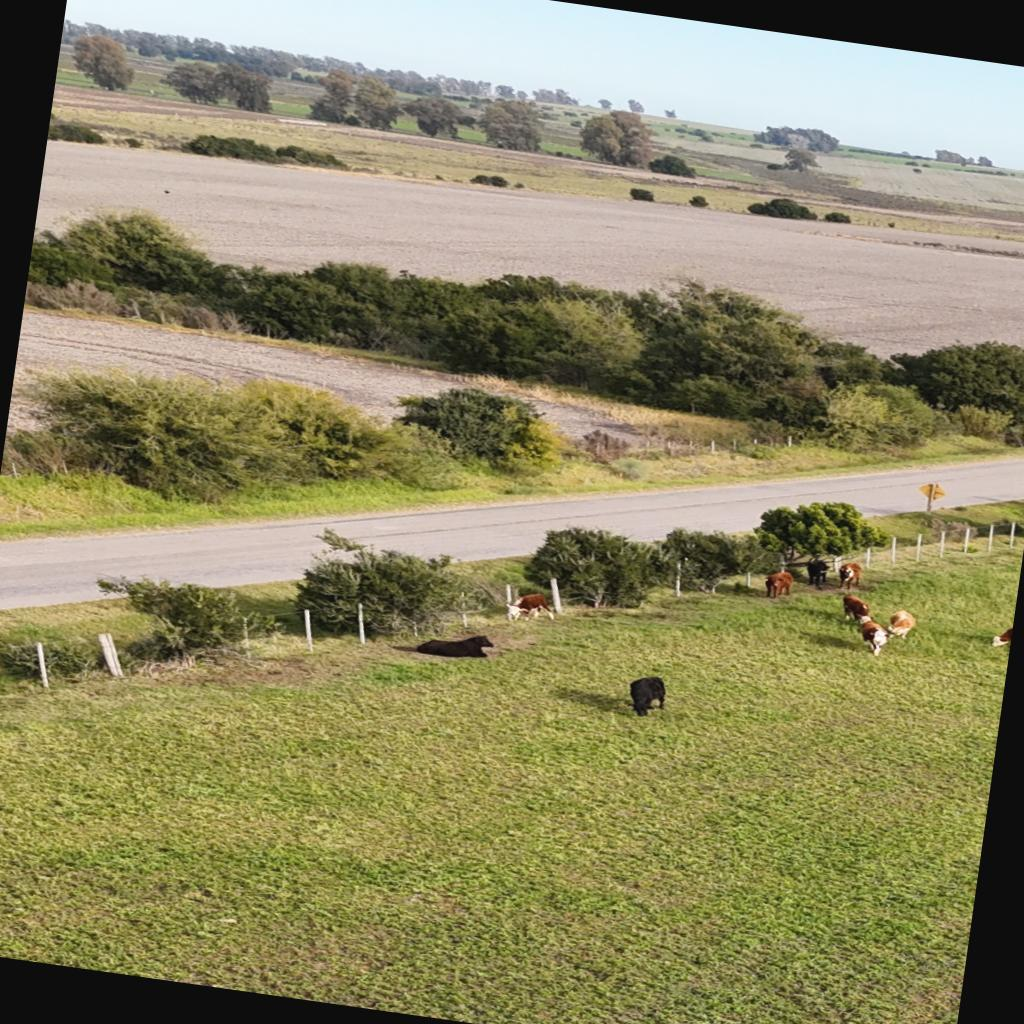cow: (416, 628, 496, 664), (625, 672, 671, 720), (504, 590, 558, 626), (850, 618, 892, 656), (763, 570, 796, 602), (886, 608, 918, 641), (840, 594, 874, 625), (838, 560, 866, 592), (804, 560, 830, 590), (990, 624, 1012, 650)
